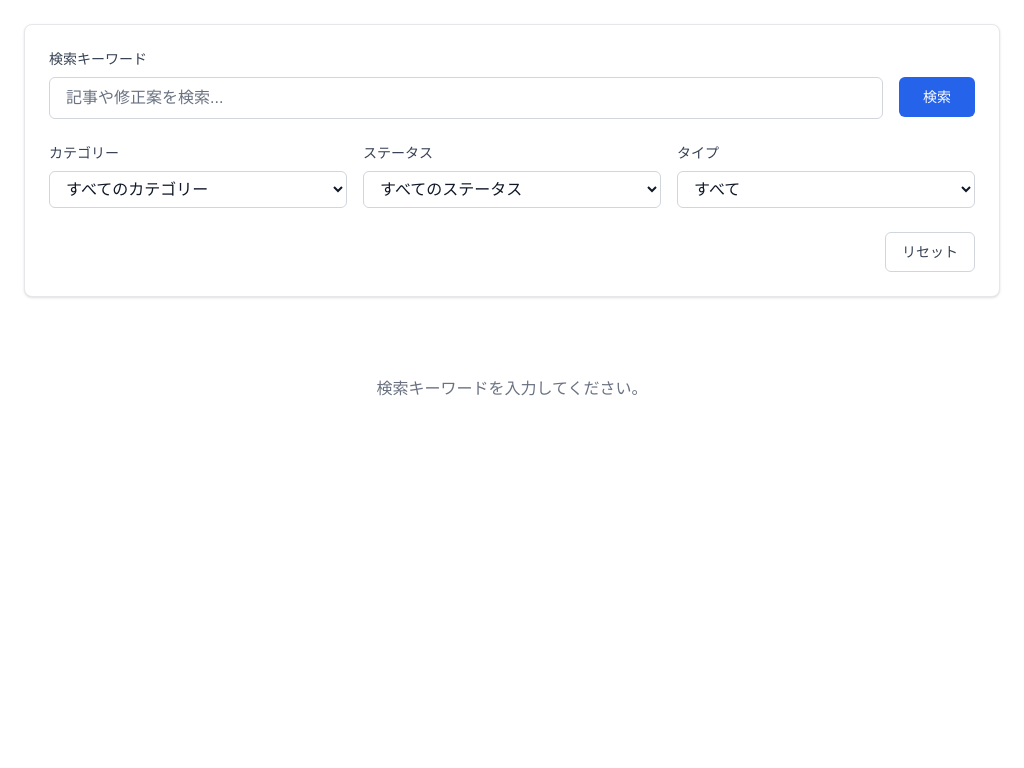
Test case: SearchAndFilter › filters results by status
Select "公開済み" in the dropdown labelled "ステータス" at [512, 190], box [363,171,661,208]
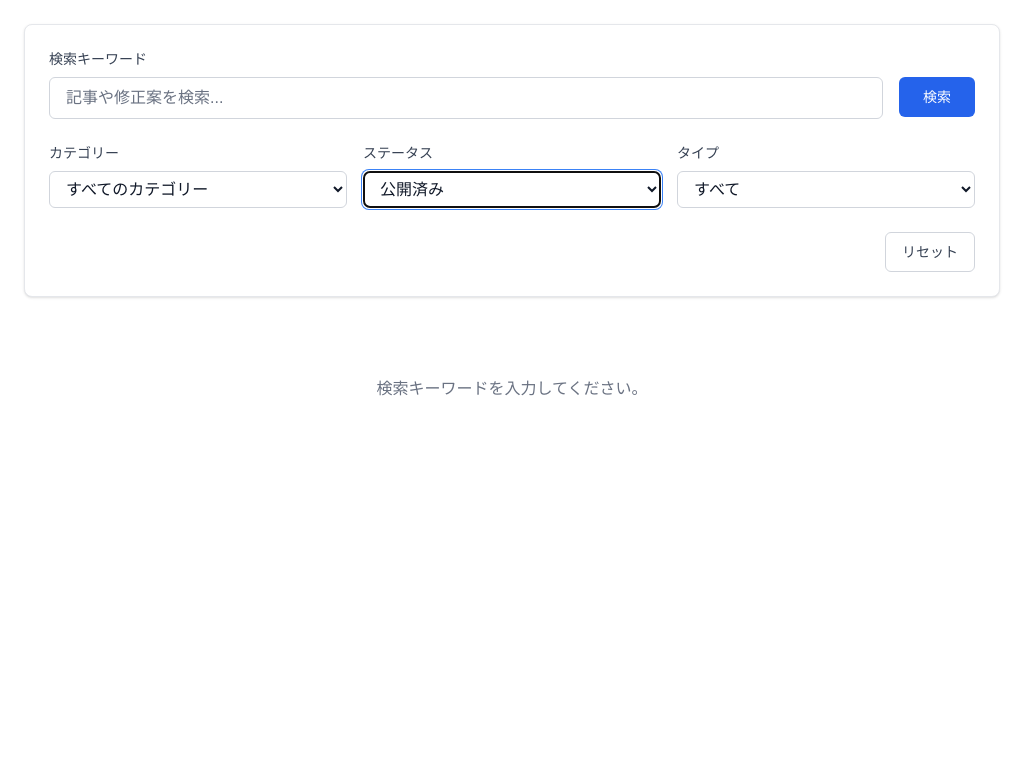
Type "テスト" into the search field labelled "検索キーワード" at [466, 98], box [49,77,883,119]
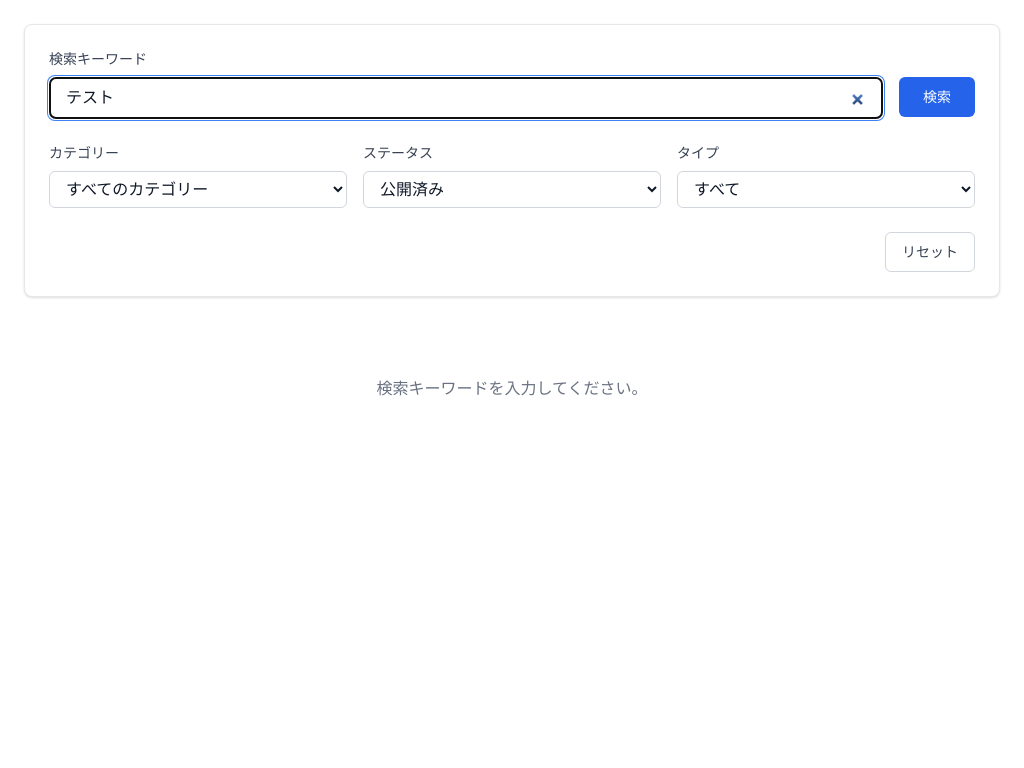
Click the button "検索" at [937, 97], box [899,77,975,117]
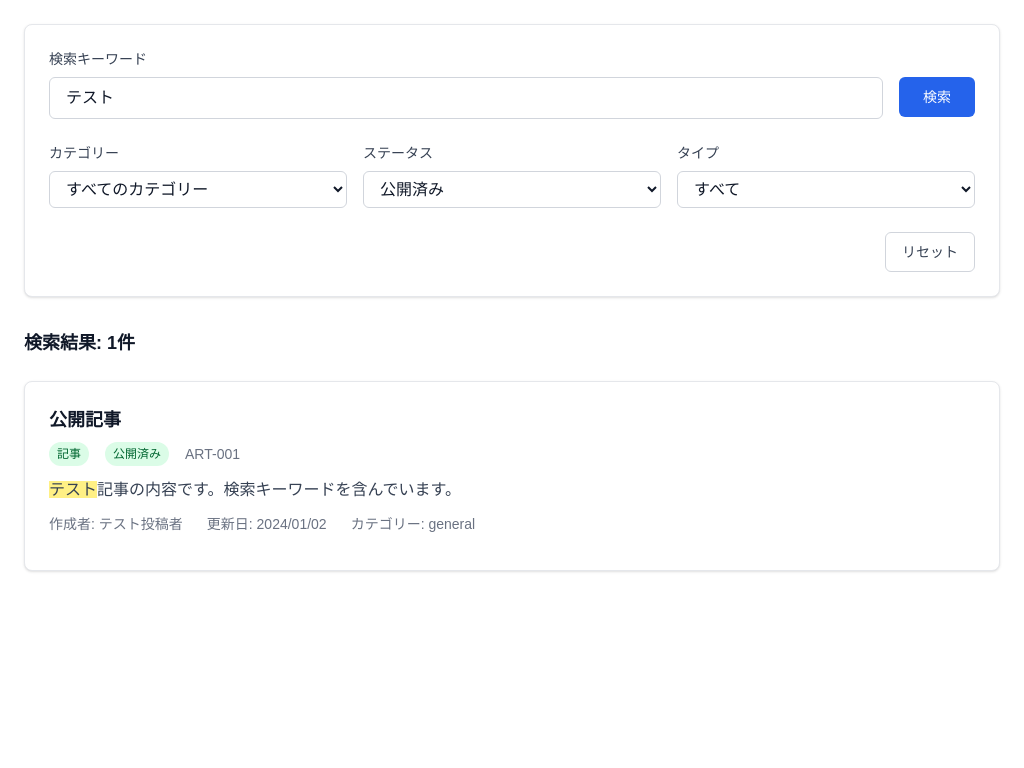
Now the heading "公開記事" is shown, box [49,410,121,430]
